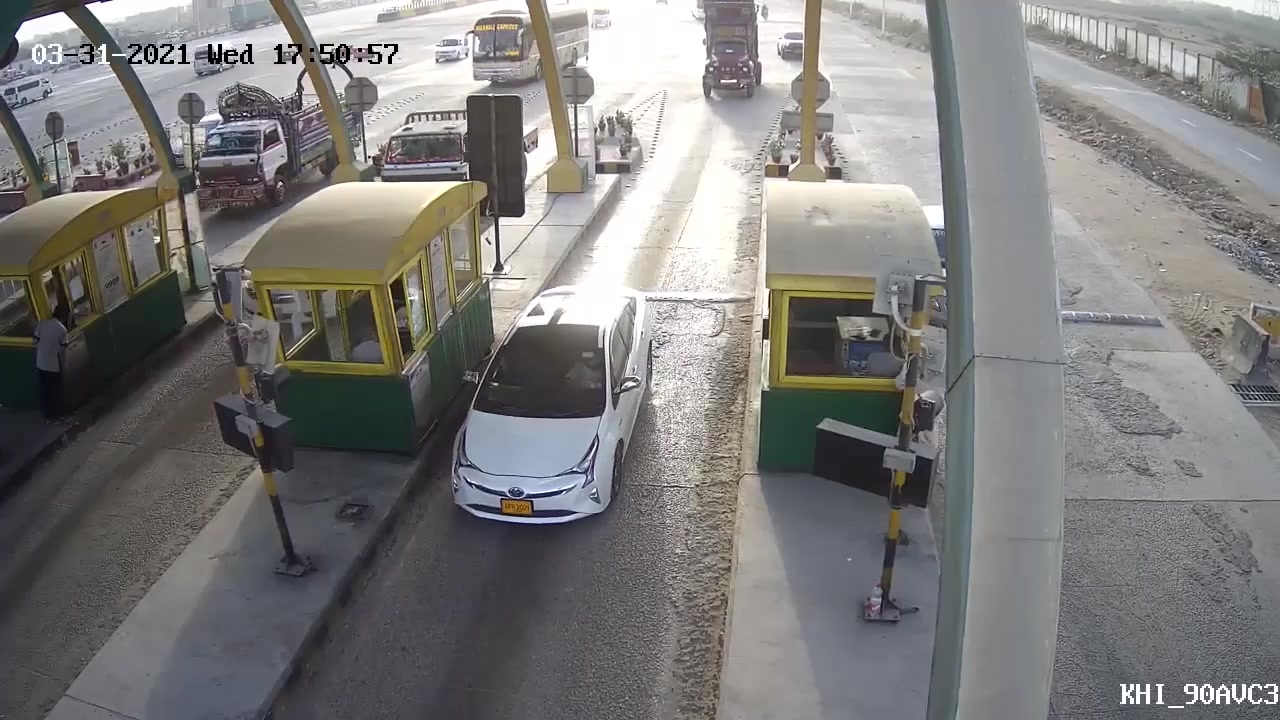F1: (431, 282, 655, 553)
